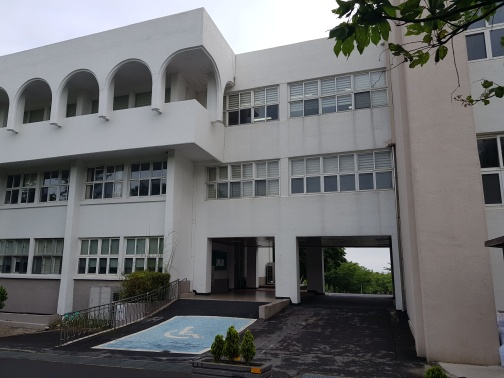Main Building of University: (25, 14, 485, 358)
